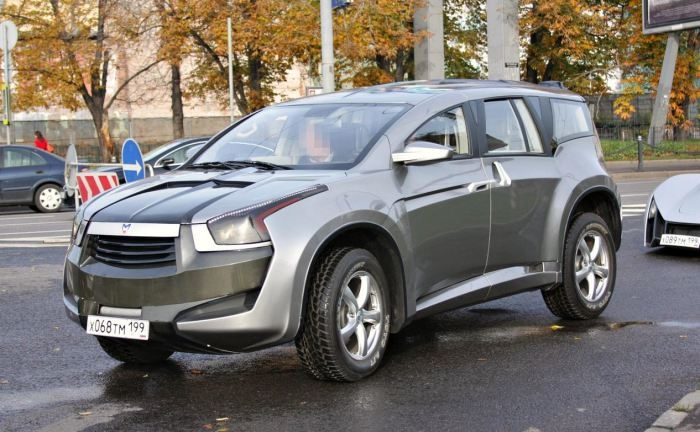car: (64, 195, 282, 350)
plate: (85, 314, 151, 342)
